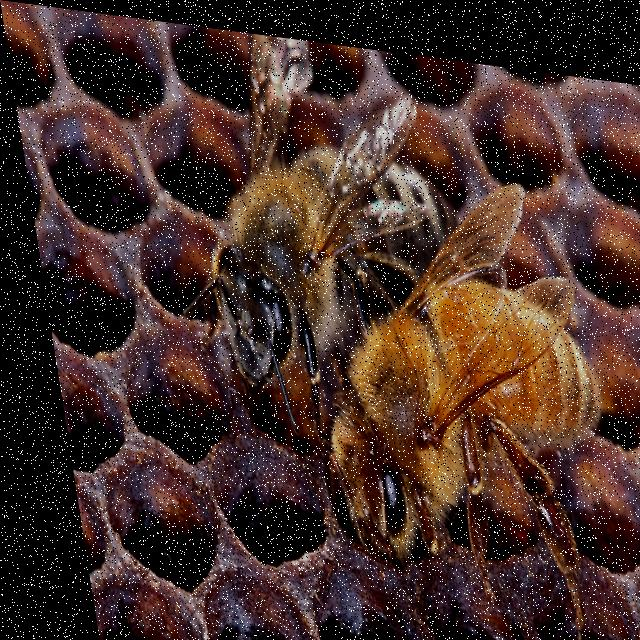Apis-mellifera-scutellata: (295, 154, 613, 621), (151, 16, 474, 422)
